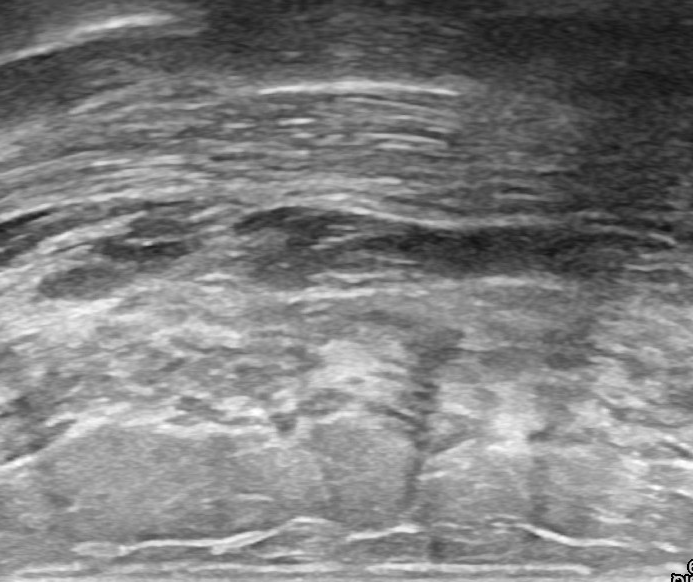Normal: (2, 16, 693, 582)
